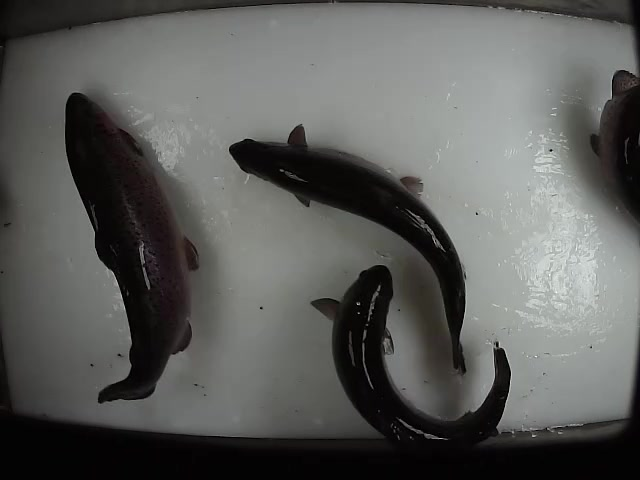fish: (226, 123, 471, 378), (64, 91, 201, 404), (307, 263, 512, 460)
